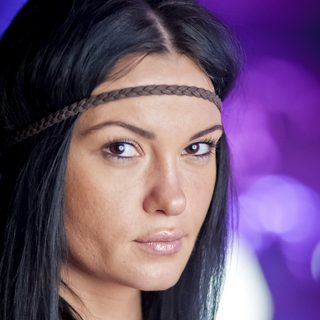eye: (97, 136, 146, 164), (177, 135, 216, 163)
